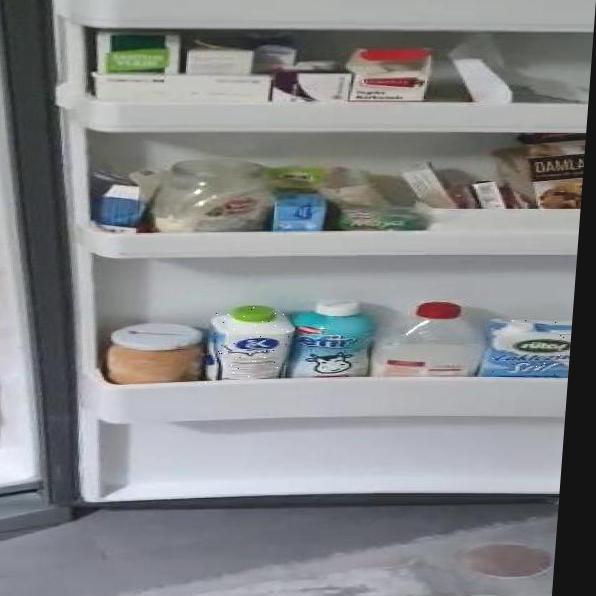milk: (209, 307, 293, 378), (491, 320, 572, 374)
